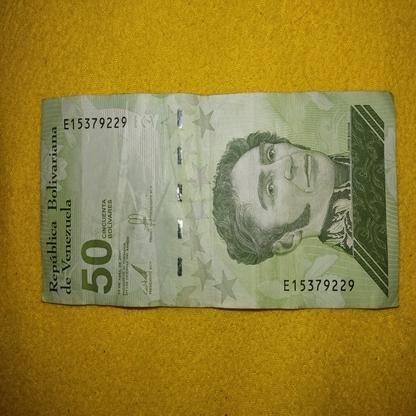fifty-front-vef: (39, 92, 397, 310)
